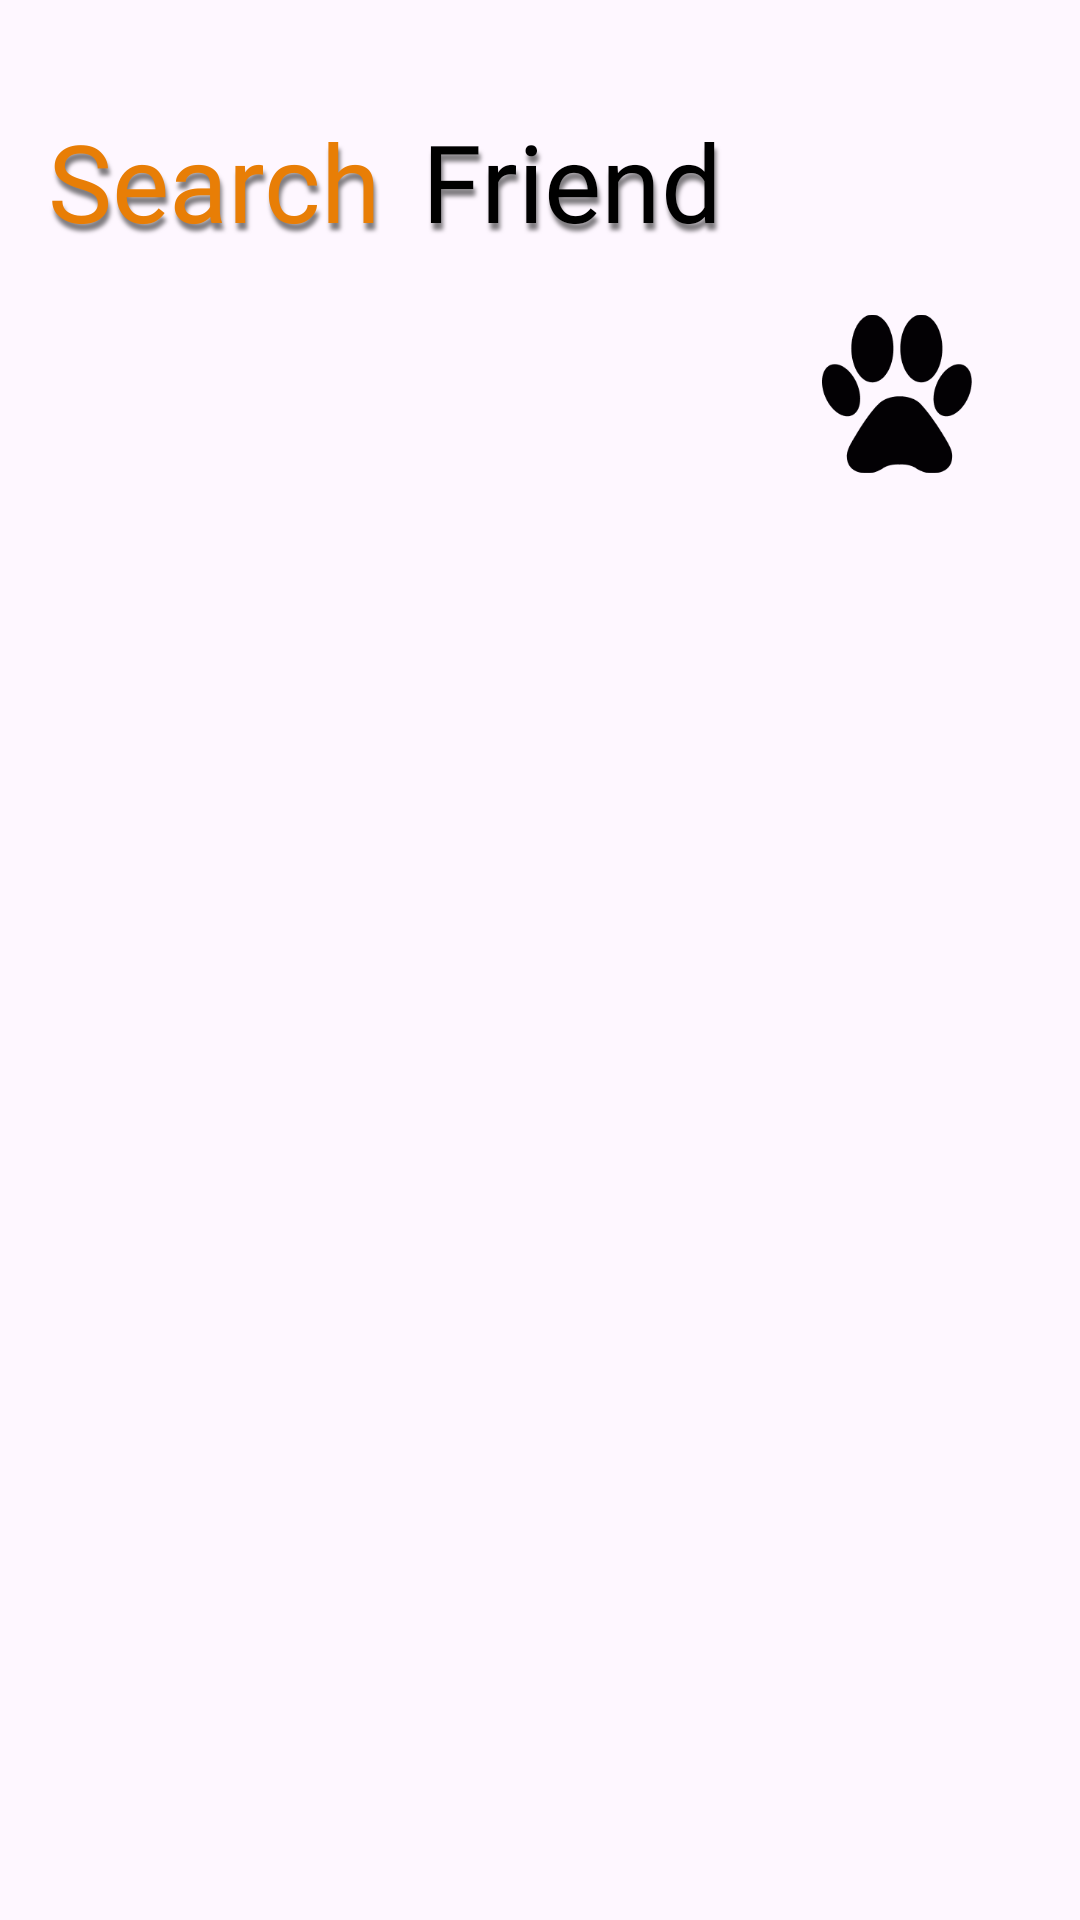

Icon bounding boxes for this 1080 × 1920 phone screenshot, format (x1, y1, x2, y2):
footprint: (822, 315, 972, 473)
